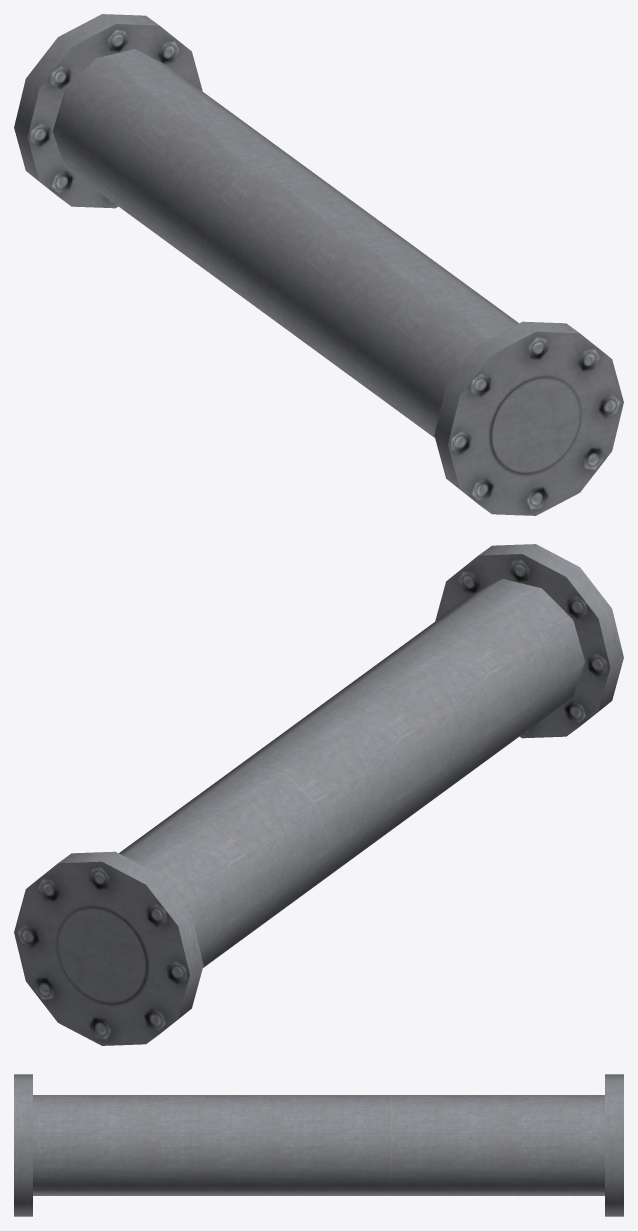
Rendered from p_med_2_cap.FBX.
The picture shows the model from 3 angles, top to bottom: view 1: azimuth 30°, elevation 25°; view 2: azimuth 150°, elevation 25°; view 3: azimuth 270°, elevation 25°; orthographic projection. The views are drawn at different scales.
Visible parts, largest first — view 1: Cylinder009; view 2: Cylinder009; view 3: Cylinder009.
Boxes of the visible parts, x1,y1,x2,y2 form: Cylinder009: [14, 14, 623, 515]; Cylinder009: [14, 544, 623, 1045]; Cylinder009: [14, 1074, 623, 1216].
Bounding box in the file's own units: 29.97 × 29.97 × 128.
Materials: 1 (1 with a texture image).
